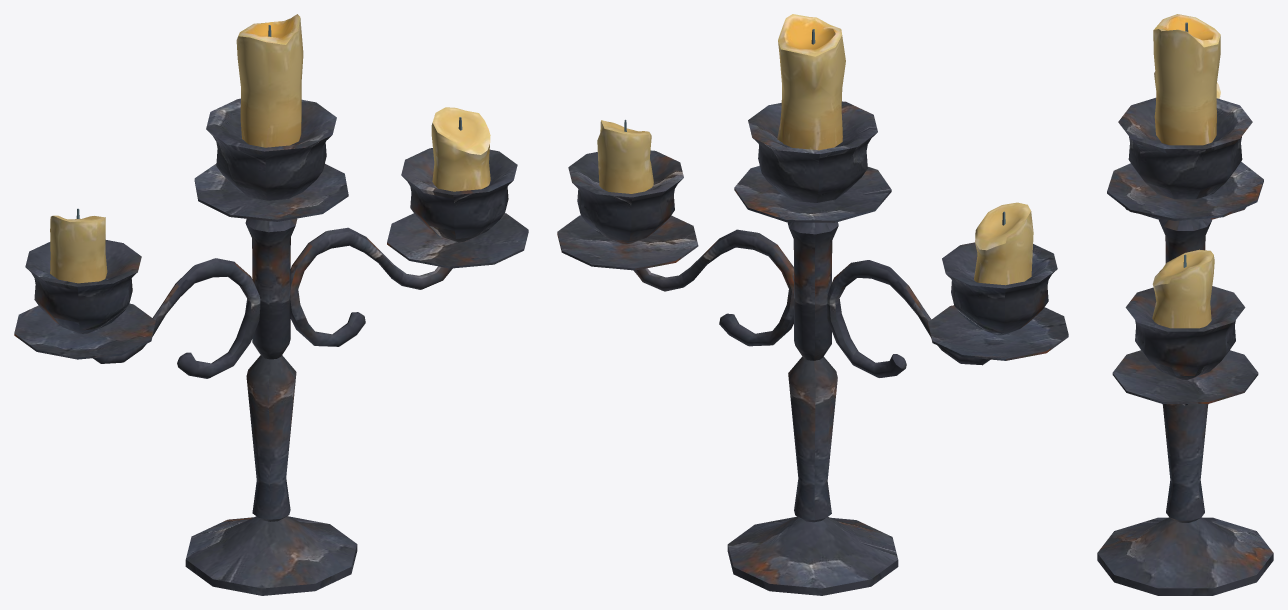
Rendered from furn_candles.glb.
3 views of the same model, side by side, from view 1: azimuth 30°, elevation 25°; view 2: azimuth 150°, elevation 25°; view 3: azimuth 270°, elevation 25° (orthographic).
Visible parts, largest first — view 1: model; view 2: model; view 3: model.
Boxes of the visible parts, x1,y1,x2,y2 form: model: (14,14,528,595); model: (557,14,1068,595); model: (1097,14,1273,595).
Bounding box in the file's own units: 0.4423 × 0.4633 × 0.1364.
Materials: 2 (2 with a texture image).
